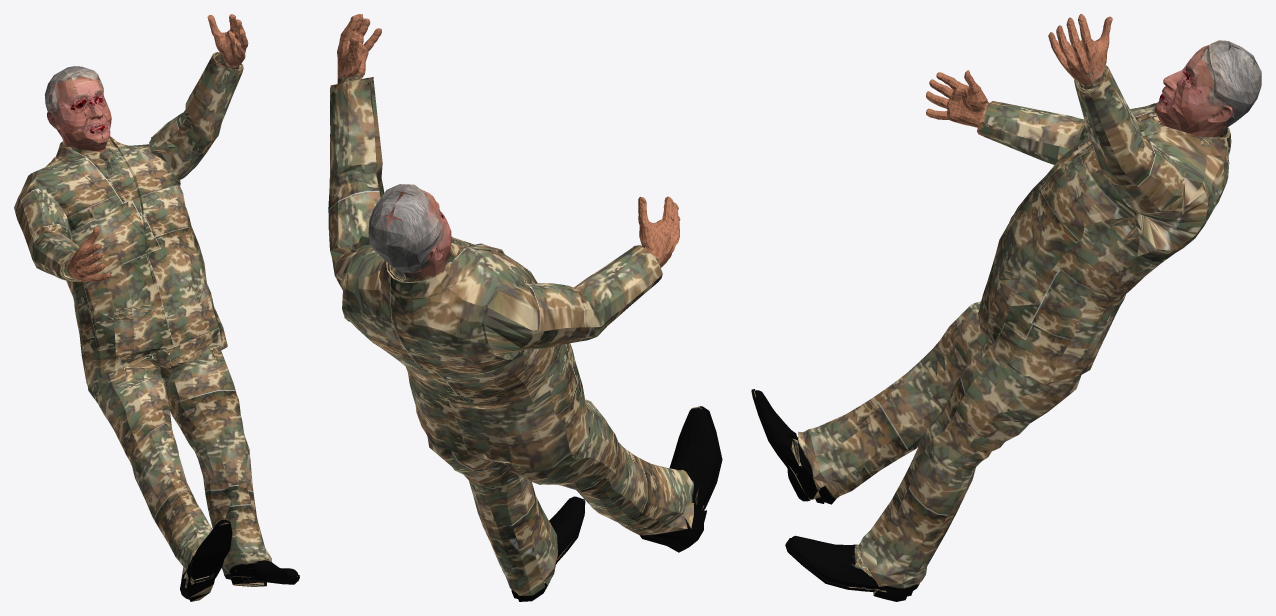
Rendered from zombie_000063.obj.
3 views of the same model, side by side, from view 1: azimuth 30°, elevation 25°; view 2: azimuth 150°, elevation 25°; view 3: azimuth 270°, elevation 25° (orthographic). The views are drawn at different scales.
Parts seen in each view (by area): view 1: Suit_coat_orig_9___De, objGeo_Hea_orig_9___D; view 2: Suit_coat_orig_9___De, objGeo_Hea_orig_9___D; view 3: Suit_coat_orig_9___De, objGeo_Hea_orig_9___D.
Part boxes in pixels (box(x1,y1,x2,y2)): Suit_coat_orig_9___De: box(14, 14, 299, 601); objGeo_Hea_orig_9___D: box(44, 66, 111, 152); Suit_coat_orig_9___De: box(328, 14, 722, 601); objGeo_Hea_orig_9___D: box(368, 184, 451, 278); Suit_coat_orig_9___De: box(751, 14, 1231, 601); objGeo_Hea_orig_9___D: box(1154, 40, 1261, 137).
Size of the model in its own units: 0.8682 by 1.88 by 1.4.
